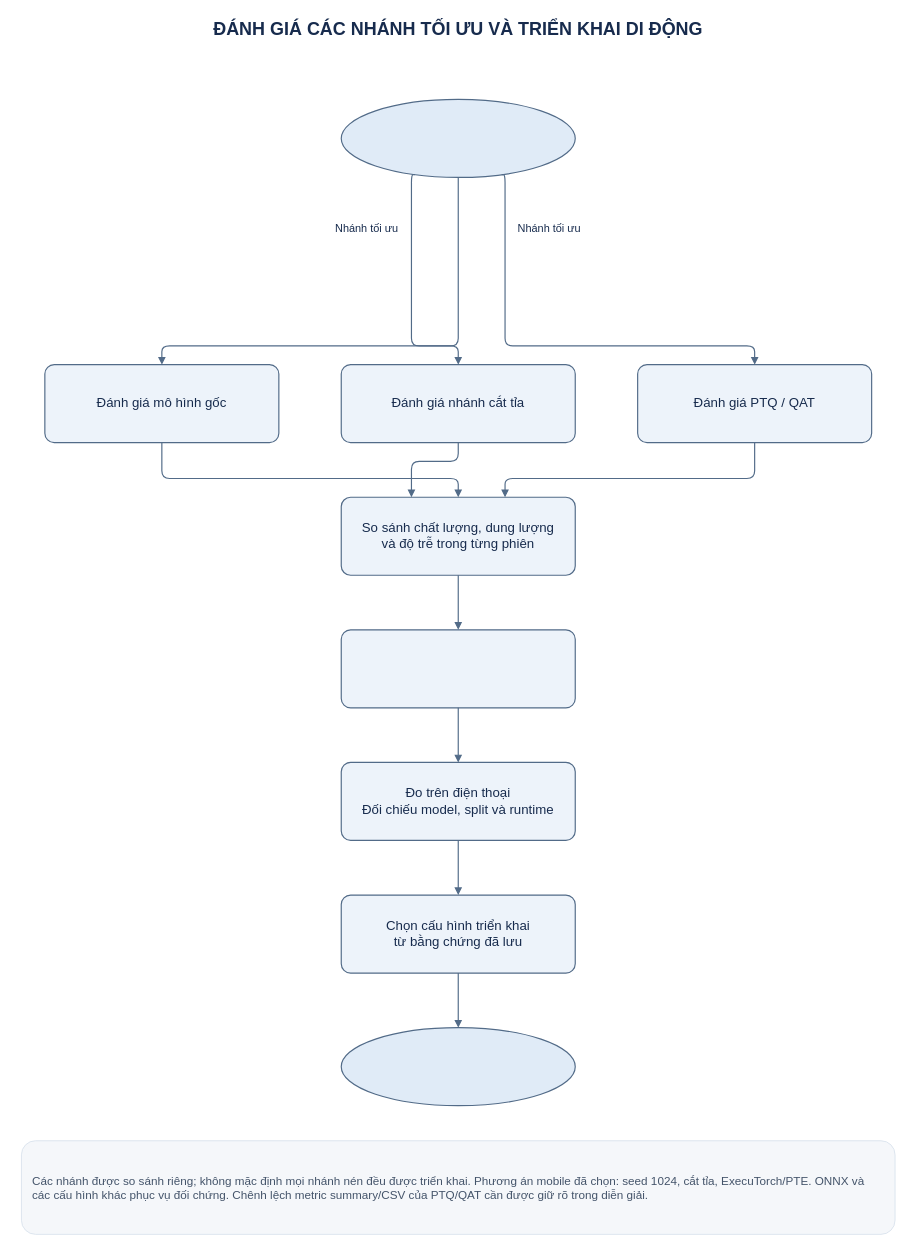
This 916x1248 diagram has some shape labels left out. The shapes that lost their labels are listed below. From the top down, each one's box as (x1, y1, x2, y2) in pixels, then its label:
(340, 99, 575, 178): Checkpoint và tập đánh giá đã chốt
(203, 324, 298, 342): Nhánh đối chứng
(340, 629, 575, 708): Xuất các cấu hình cần kiểm tra sang ONNX hoặc ExecuTorch/PTE
(340, 1027, 575, 1106): Triển khai nhận diện trên thiết bị
